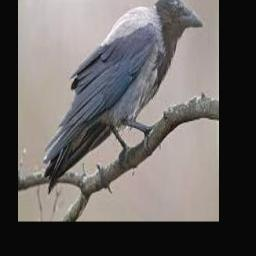Crow: (43, 0, 203, 193)
